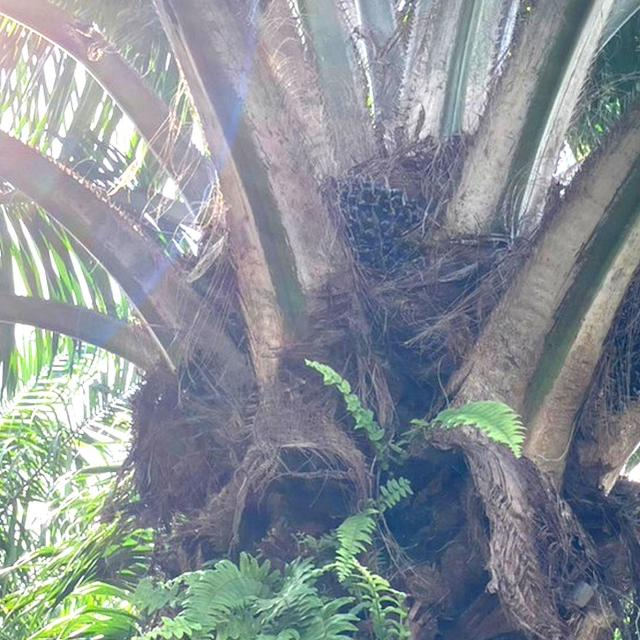unripe: (333, 176, 429, 293)
